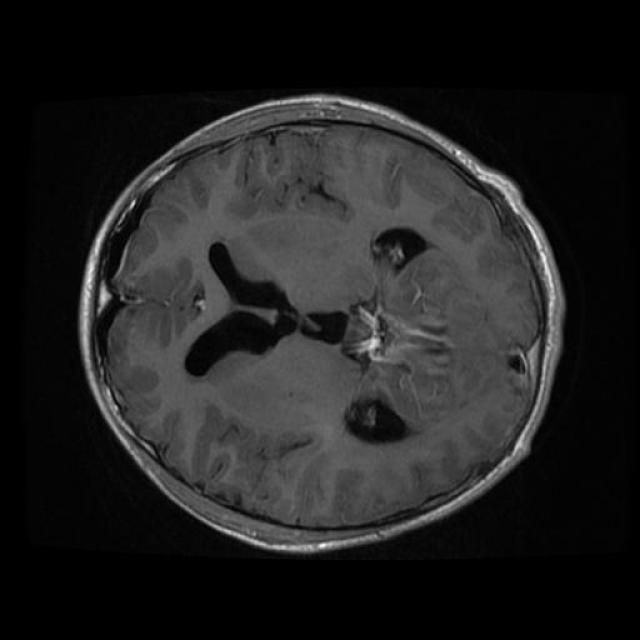Glioma: (341, 289, 452, 374)
